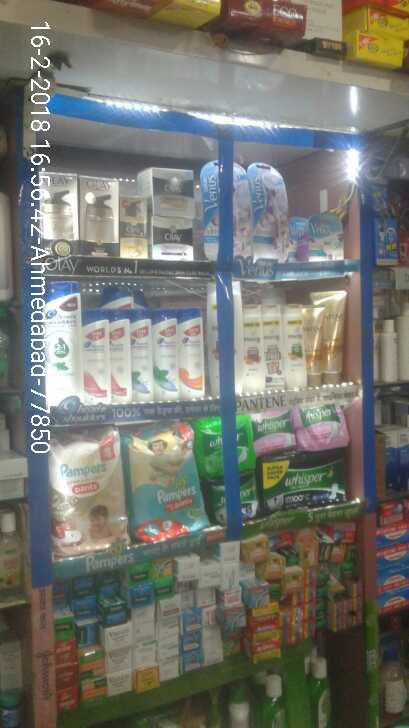venus: (201, 158, 253, 259), (253, 164, 286, 259), (312, 216, 345, 258), (289, 215, 311, 258)
